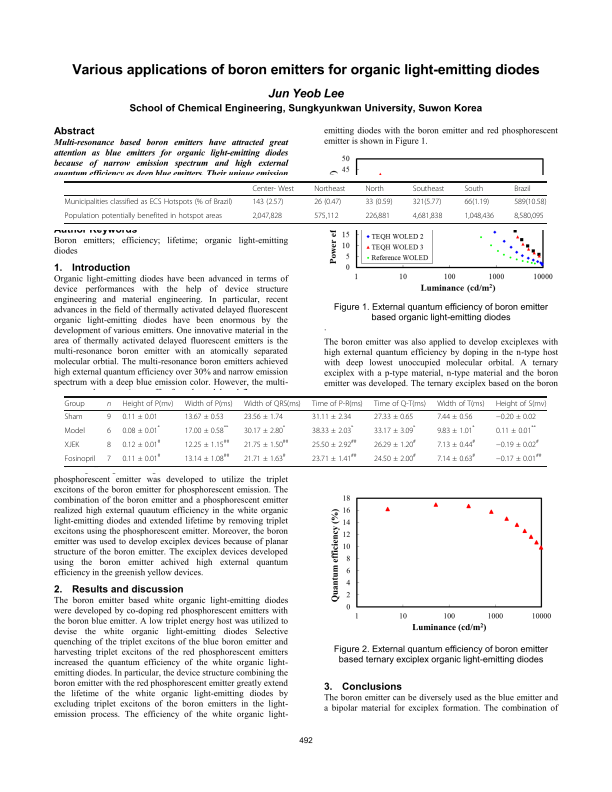borderless: (64, 395, 547, 466), (64, 180, 547, 223)
cell: (64, 197, 233, 207), (64, 211, 223, 221), (243, 399, 302, 408), (495, 452, 542, 463), (184, 438, 230, 449), (243, 438, 289, 449), (311, 438, 357, 449), (184, 452, 230, 463), (311, 452, 357, 463), (184, 424, 229, 435), (495, 438, 540, 449), (373, 399, 427, 408), (373, 438, 417, 449), (243, 452, 287, 463), (373, 452, 417, 463), (121, 399, 174, 408), (311, 399, 364, 408), (243, 424, 286, 435), (311, 424, 354, 435), (373, 424, 416, 435), (495, 399, 547, 408), (495, 424, 537, 435), (436, 399, 486, 408), (184, 399, 233, 408), (121, 424, 161, 435), (436, 424, 476, 435), (121, 438, 161, 449), (436, 438, 476, 449), (121, 452, 161, 463), (436, 452, 476, 463), (251, 184, 295, 193), (495, 412, 537, 421), (184, 412, 225, 421), (243, 412, 284, 421), (311, 412, 352, 421), (373, 412, 414, 421), (121, 412, 159, 421), (513, 197, 547, 207), (436, 412, 473, 421), (251, 197, 284, 207), (251, 211, 283, 221), (463, 211, 495, 221), (513, 211, 545, 221), (412, 211, 443, 221), (412, 197, 442, 207), (313, 184, 346, 193), (412, 184, 445, 193), (313, 197, 342, 207), (364, 197, 393, 207), (64, 454, 96, 463), (463, 197, 490, 207), (364, 211, 391, 221), (313, 211, 339, 221), (64, 426, 86, 435), (64, 399, 85, 408), (364, 184, 385, 193), (463, 184, 484, 193), (64, 412, 83, 421), (513, 184, 532, 193), (64, 440, 80, 449), (106, 412, 112, 421), (106, 426, 112, 435), (106, 440, 112, 449), (106, 454, 112, 463), (106, 401, 112, 407)
